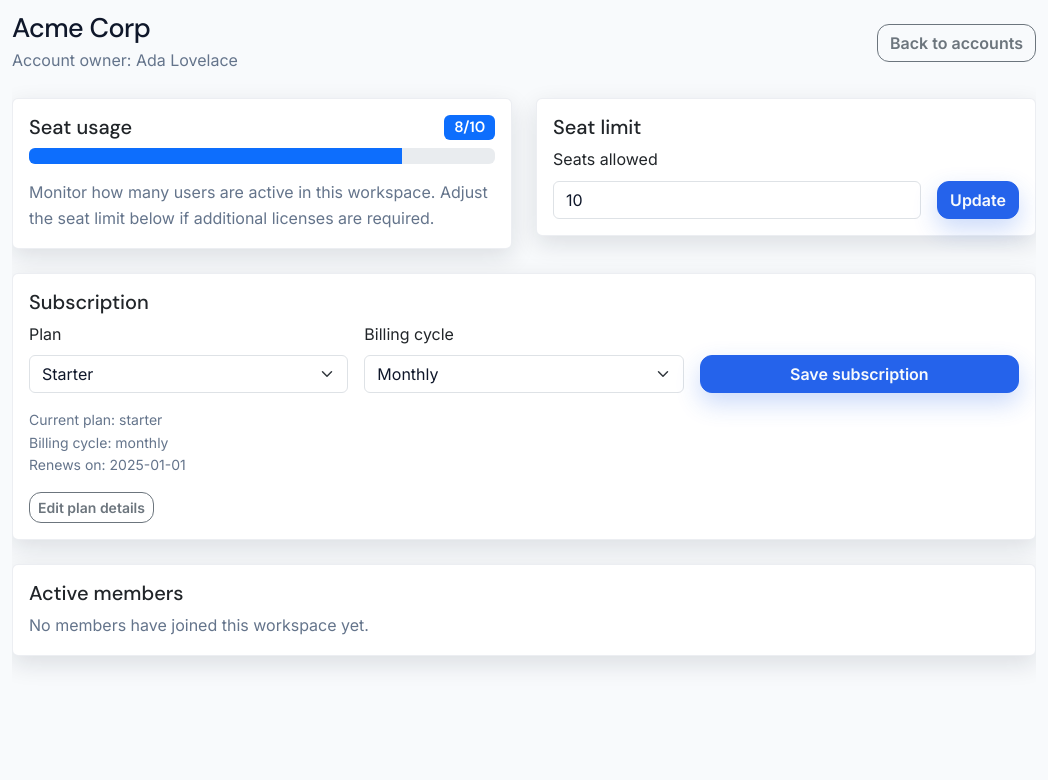
Test case: AdminAccountDetailPage › shows validation error when seat limit is below usage
This screenshot has width=1048, height=780.
Replace the text in the number field labelled "Seats allowed" with "7": (737, 200) [553,180,921,218]
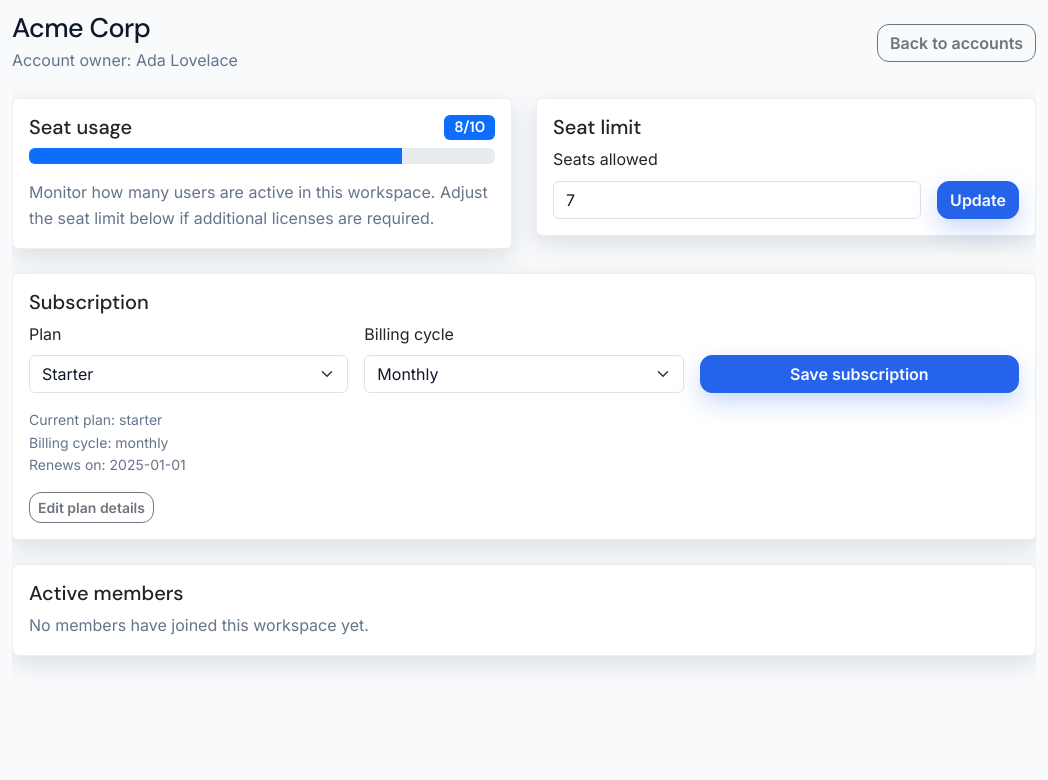
Submit the form with test id "seat-limit-form", box [553,147,1019,218]
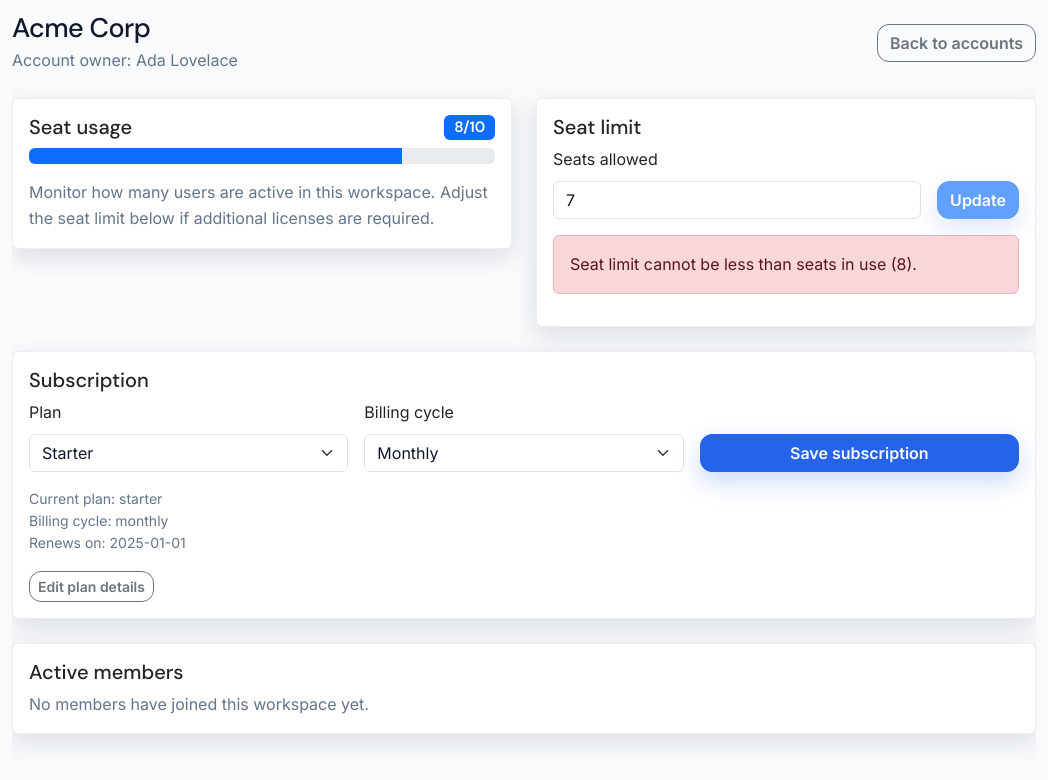
Expected: the message with test id "seat-limit-error" reads "Seat limit cannot be less than seats in use (8).", [570,254,917,274]
Expected: the button "Update" is disabled, [937,180,1019,218]
